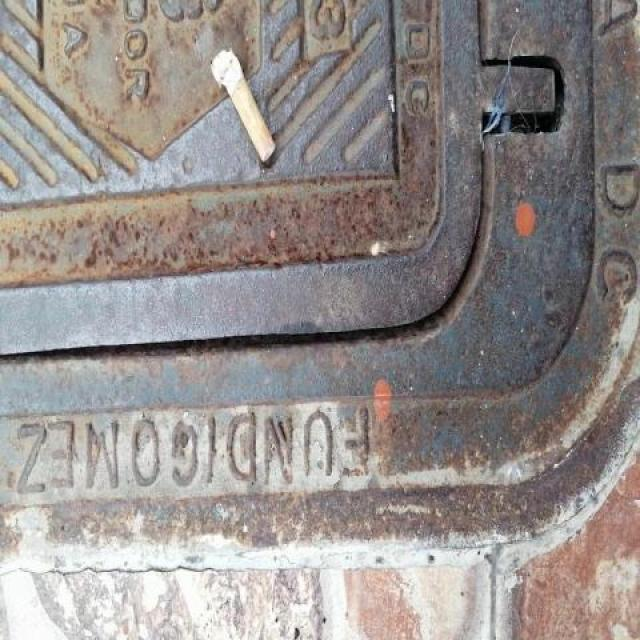non-organic waste: (208, 42, 280, 170)
